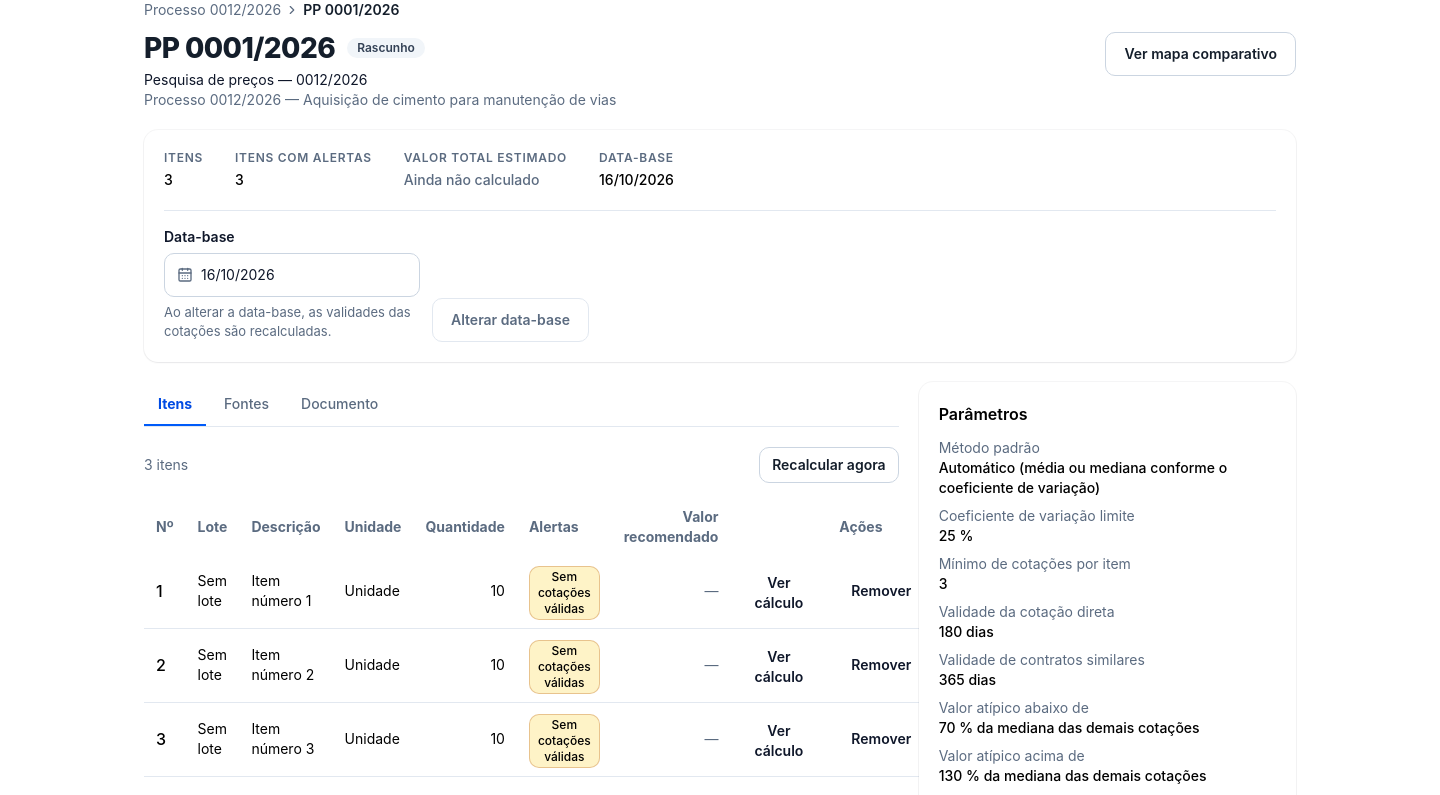
Test: Aba "Fontes" da SCR-009 (US-026) › FA-02: remover pede confirmação com as cotações a perder e usa o If-Match da fonte
Click the tab "Fontes" at (246, 404), box [210, 382, 283, 426]
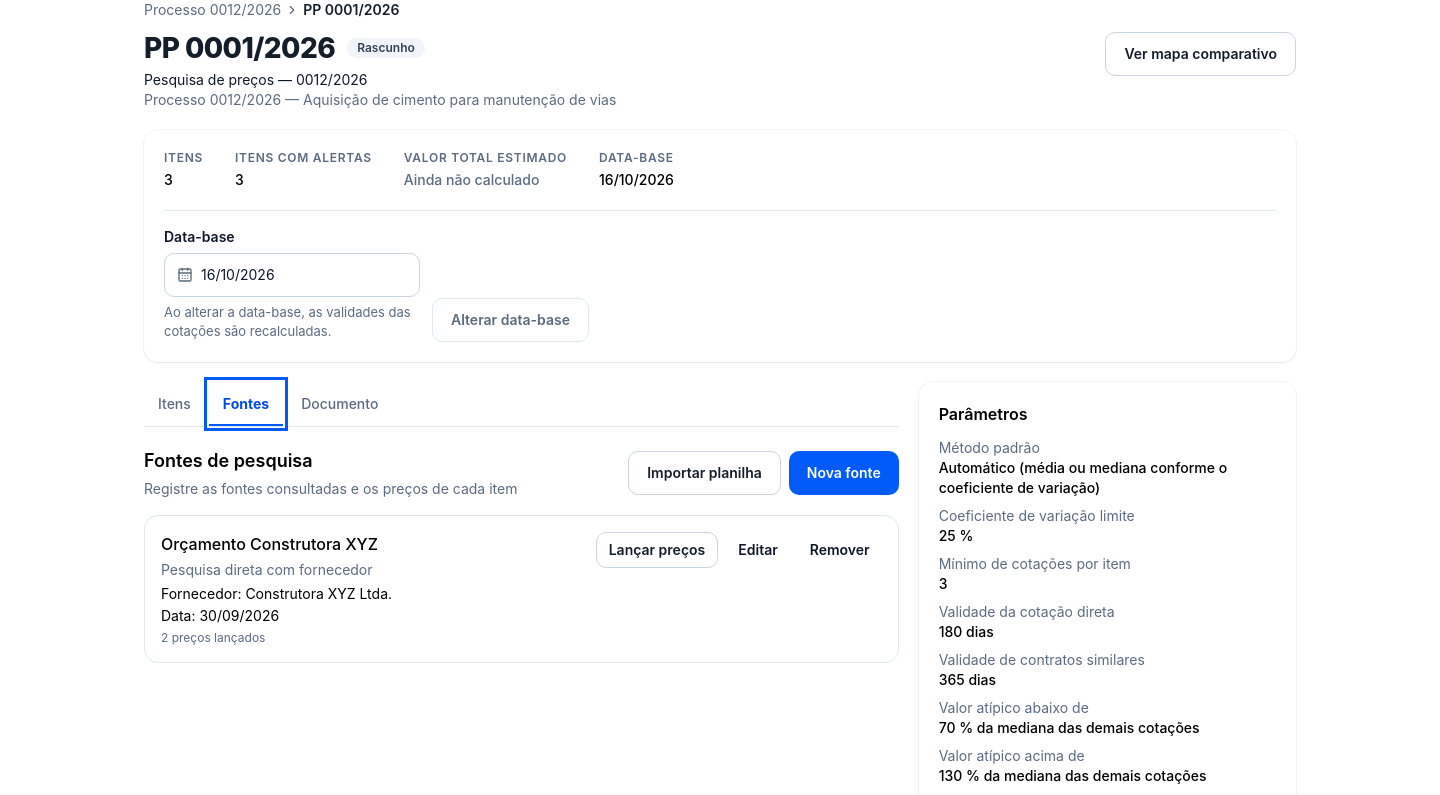
Click the button "Remover" at (840, 550), box [798, 532, 882, 568]
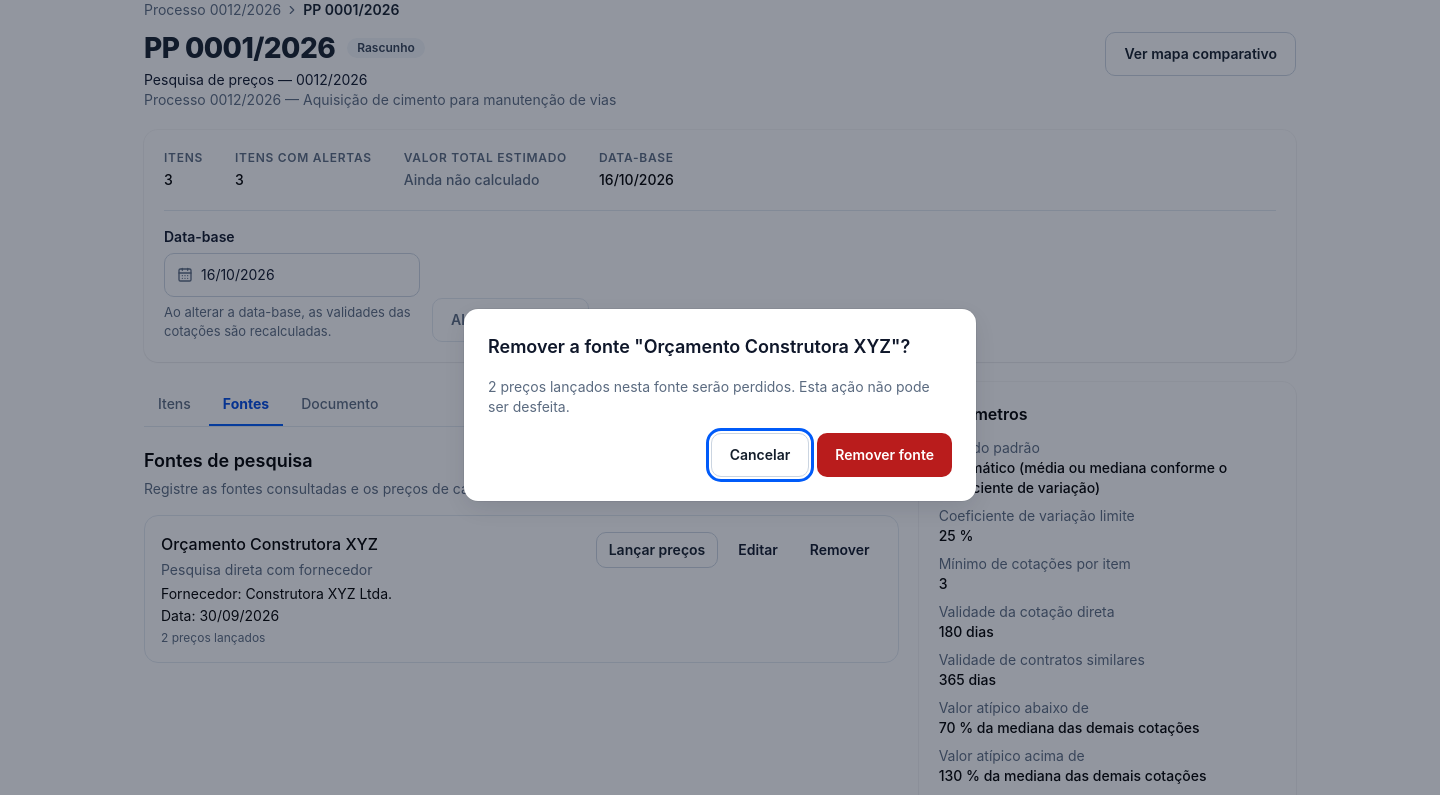
Now the text "2 preços lançados nesta fonte serão perdidos. Esta ação não pode ser desfeita." is shown, box [488, 377, 952, 417]
Click the button "Remover fonte" at (885, 455), box [817, 433, 952, 477]
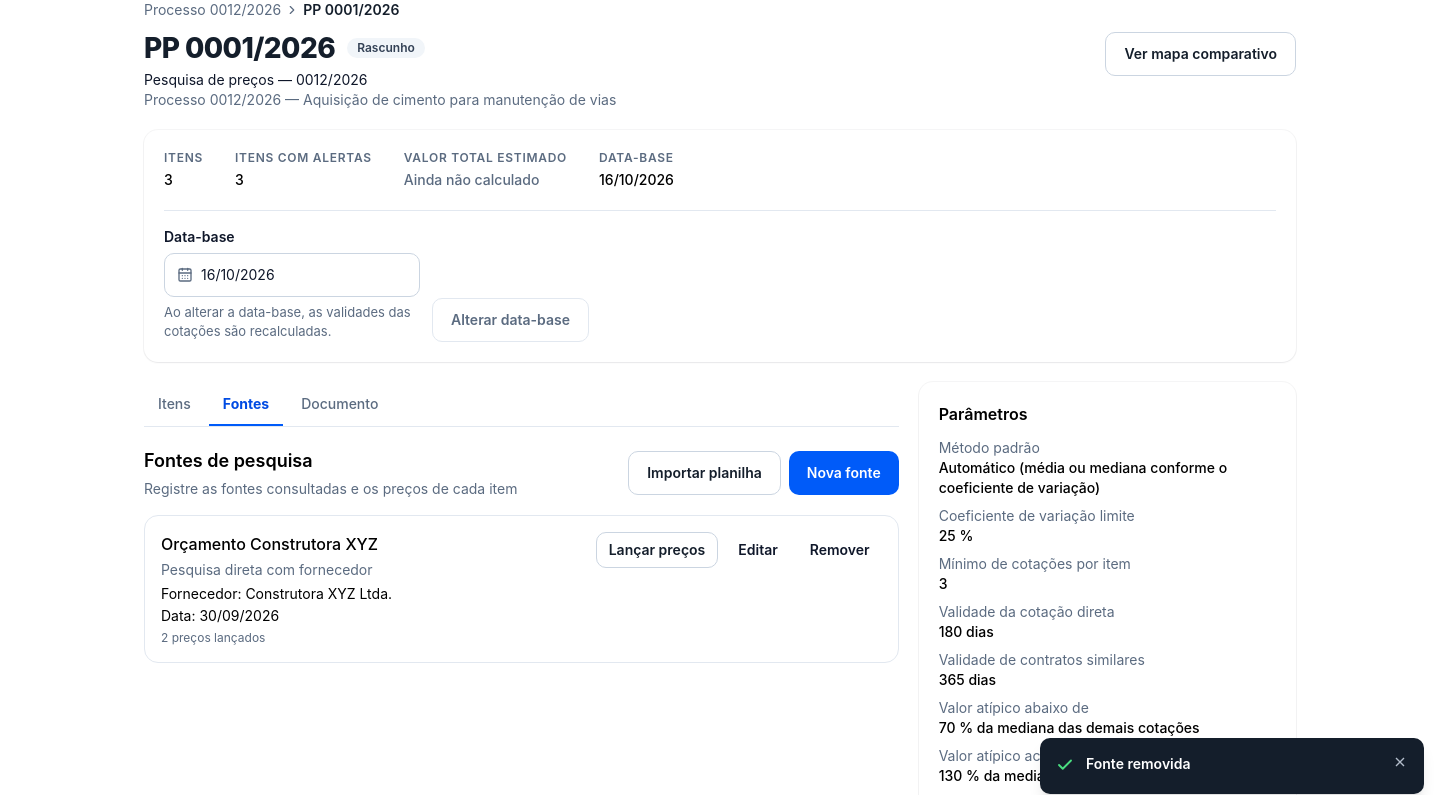
Now the text "Fonte removida" is shown, box [1086, 755, 1190, 772]
